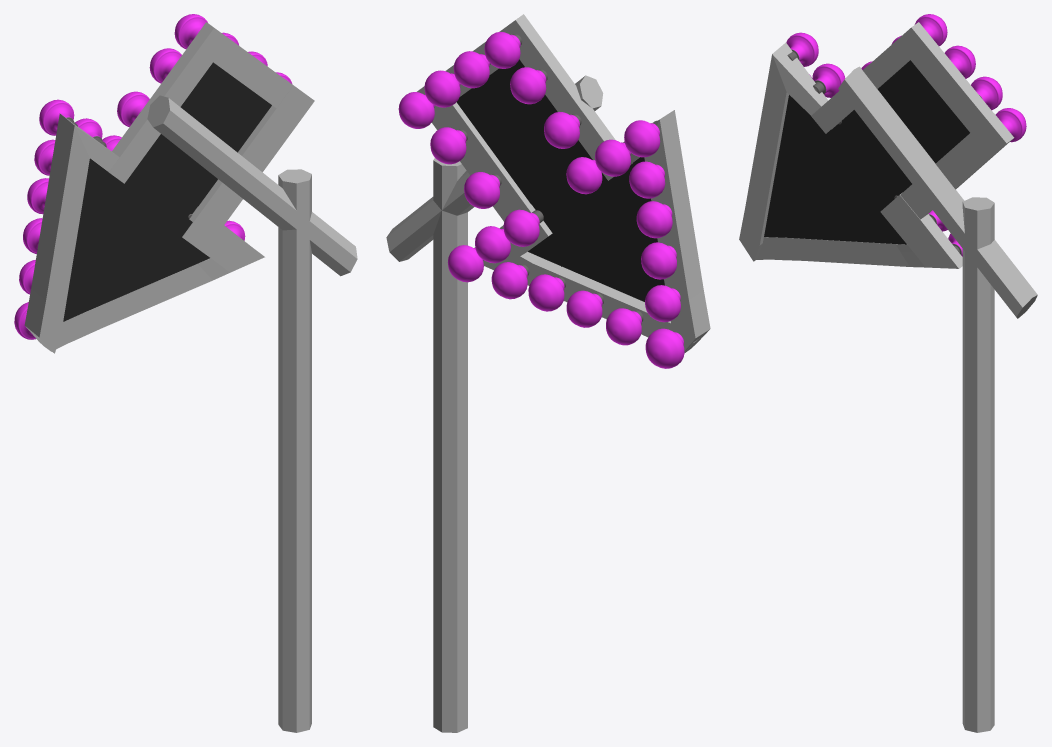
The model's file is fleche.glb.
The picture shows the model from 3 angles, left to right: view 1: azimuth 30°, elevation 25°; view 2: azimuth 150°, elevation 25°; view 3: azimuth 330°, elevation 25°; orthographic projection. The views are drawn at different scales.
Parts seen in each view (by area): view 1: Cube.001, Cylinder, Plane.001, Cylinder.001, Plane.002, Decorator.011, Decorator.009, Decorator.007, Decorator.008, Decorator.019; view 2: Cylinder, Cube.001, Plane.002, Plane.001, Cylinder.001, Decorator.022, Decorator, Decorator.015, Decorator.003, Decorator.014, Decorator.016, Decorator.017 (+16 smaller); view 3: Cube.001, Cylinder, Plane.001, Cylinder.001, Plane.002, Decorator.010, Decorator.011, Decorator.005, Decorator.001, Decorator.006, Decorator.007.
Boxes of the visible parts, bbox=[...] form: Cube.001: bbox=[24, 22, 314, 353]; Cylinder: bbox=[278, 169, 311, 732]; Plane.001: bbox=[63, 158, 209, 321]; Cylinder.001: bbox=[147, 95, 357, 276]; Plane.002: bbox=[130, 62, 271, 218]; Decorator.011: bbox=[39, 99, 77, 135]; Decorator.009: bbox=[117, 91, 149, 126]; Decorator.007: bbox=[174, 14, 207, 49]; Decorator.008: bbox=[149, 48, 181, 83]; Decorator.019: bbox=[27, 178, 48, 214]; Cylinder: bbox=[433, 158, 467, 732]; Cube.001: bbox=[417, 14, 710, 353]; Plane.002: bbox=[456, 59, 645, 266]; Plane.001: bbox=[528, 157, 664, 301]; Cylinder.001: bbox=[386, 75, 603, 261]; Decorator.022: bbox=[645, 328, 684, 368]; Decorator: bbox=[503, 209, 543, 246]; Decorator.015: bbox=[528, 274, 565, 311]; Decorator.003: bbox=[430, 127, 467, 164]; Decorator.014: bbox=[491, 262, 529, 299]; Decorator.016: bbox=[566, 290, 603, 327]; Decorator.017: bbox=[606, 308, 643, 345]; Cube.001: bbox=[739, 22, 1014, 268]; Cylinder: bbox=[962, 197, 994, 732]; Plane.001: bbox=[764, 95, 906, 244]; Cylinder.001: bbox=[838, 66, 1037, 318]; Plane.002: bbox=[832, 60, 969, 201]; Decorator.010: bbox=[812, 63, 845, 97]; Decorator.011: bbox=[786, 32, 818, 66]; Decorator.005: bbox=[971, 76, 1002, 110]; Decorator.001: bbox=[995, 108, 1026, 142]; Decorator.006: bbox=[945, 45, 975, 78]; Decorator.007: bbox=[914, 14, 947, 46].
Size of the model in its own units: 6.91 by 15.05 by 1.69.
